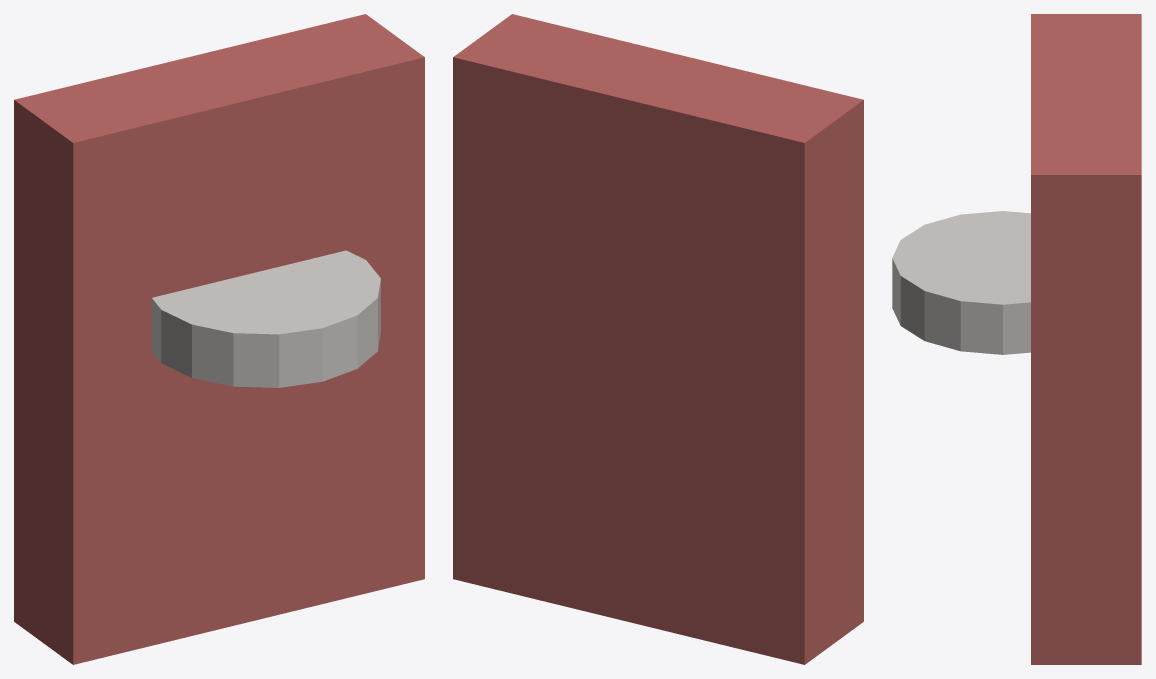
The model's file is alarm_lod0.glb.
3 renders of one model, left to right at view 1: azimuth 30°, elevation 25°; view 2: azimuth 150°, elevation 25°; view 3: azimuth 270°, elevation 25°, orthographic. The views are drawn at different scales.
Parts seen in each view (by area): view 1: part_0, part_1; view 2: part_0; view 3: part_0, part_1.
Part boxes in pixels (box(x1,y1,x2,y2)): part_0: box(14, 14, 424, 664); part_1: box(151, 250, 380, 387); part_0: box(453, 14, 863, 664); part_0: box(1031, 14, 1141, 664); part_1: box(892, 211, 1030, 354).
Size of the model in its own units: 0.55 by 0.78 by 0.36.
